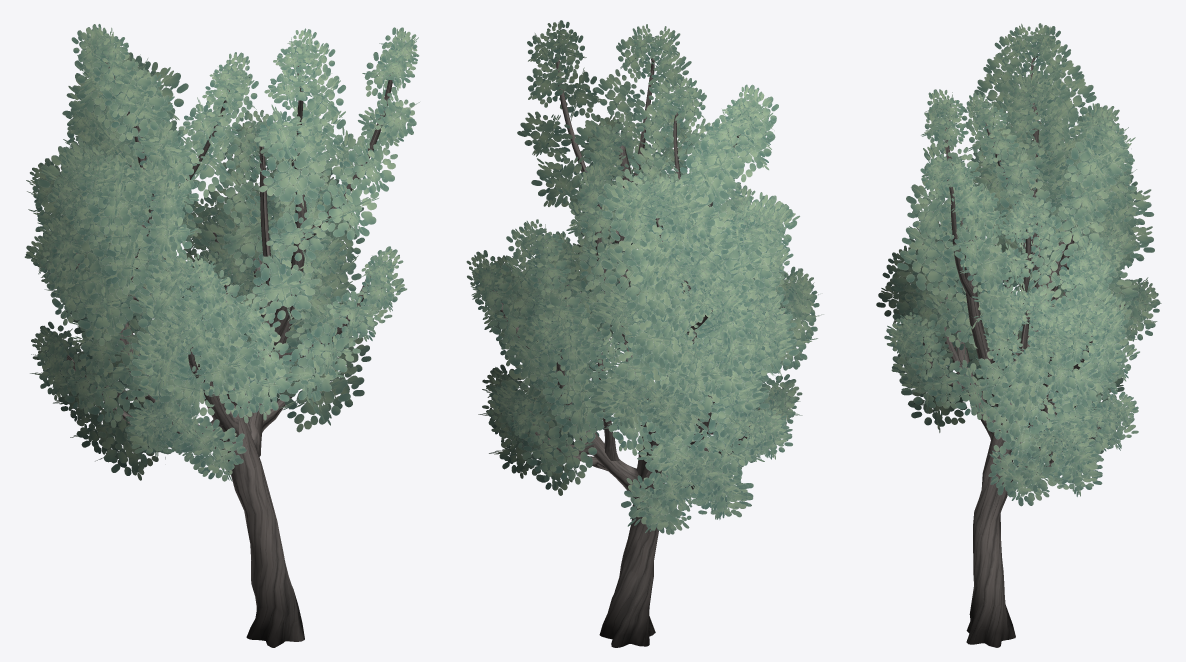
The model's file is TwistedTree_2.glb.
The picture shows the model from 3 angles, left to right: view 1: azimuth 30°, elevation 25°; view 2: azimuth 150°, elevation 25°; view 3: azimuth 270°, elevation 25°; orthographic projection. The views are drawn at different scales.
Parts seen in each view (by area): view 1: TwistedTree_2; view 2: TwistedTree_2; view 3: TwistedTree_2.
Part boxes in pixels (left/top/right/bottom): TwistedTree_2: left=24, top=24, right=419, bottom=647; TwistedTree_2: left=466, top=20, right=823, bottom=647; TwistedTree_2: left=876, top=23, right=1161, bottom=647.
Bounding box in the file's own units: 10.91 × 19.09 × 9.55.
Materials: 2 (2 with a texture image).
